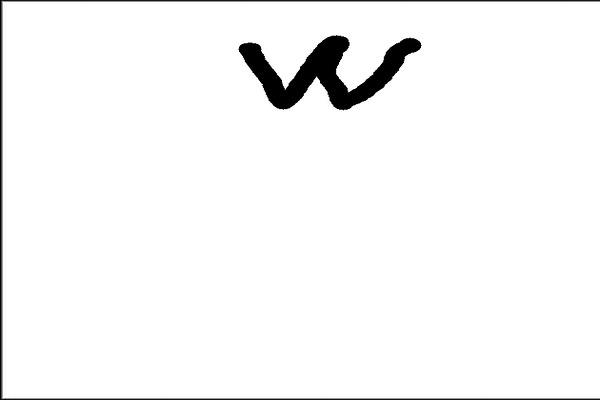w: (229, 20, 425, 122)
